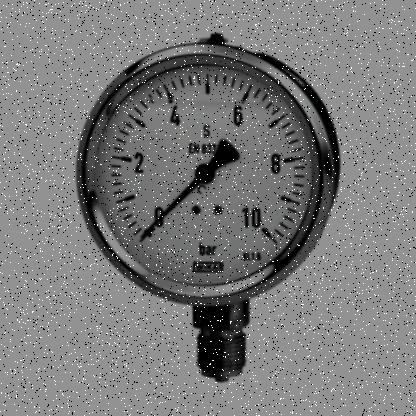needle: (140, 177, 202, 239)
